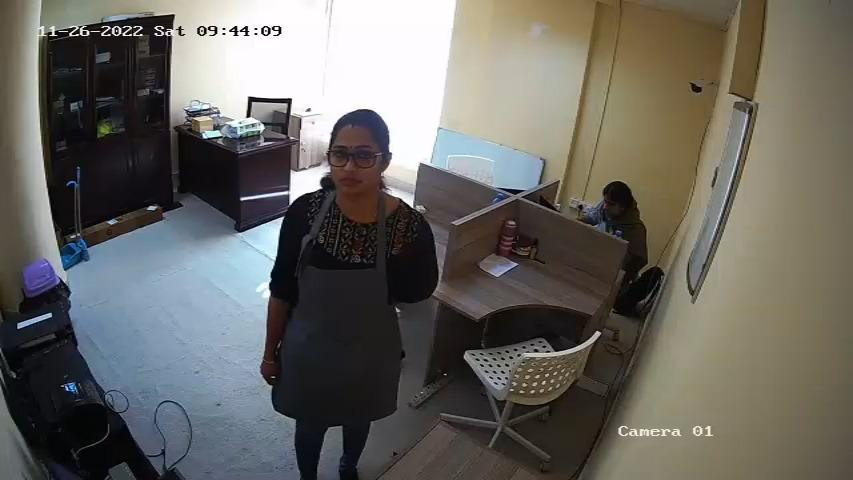apron: (284, 200, 399, 412)
